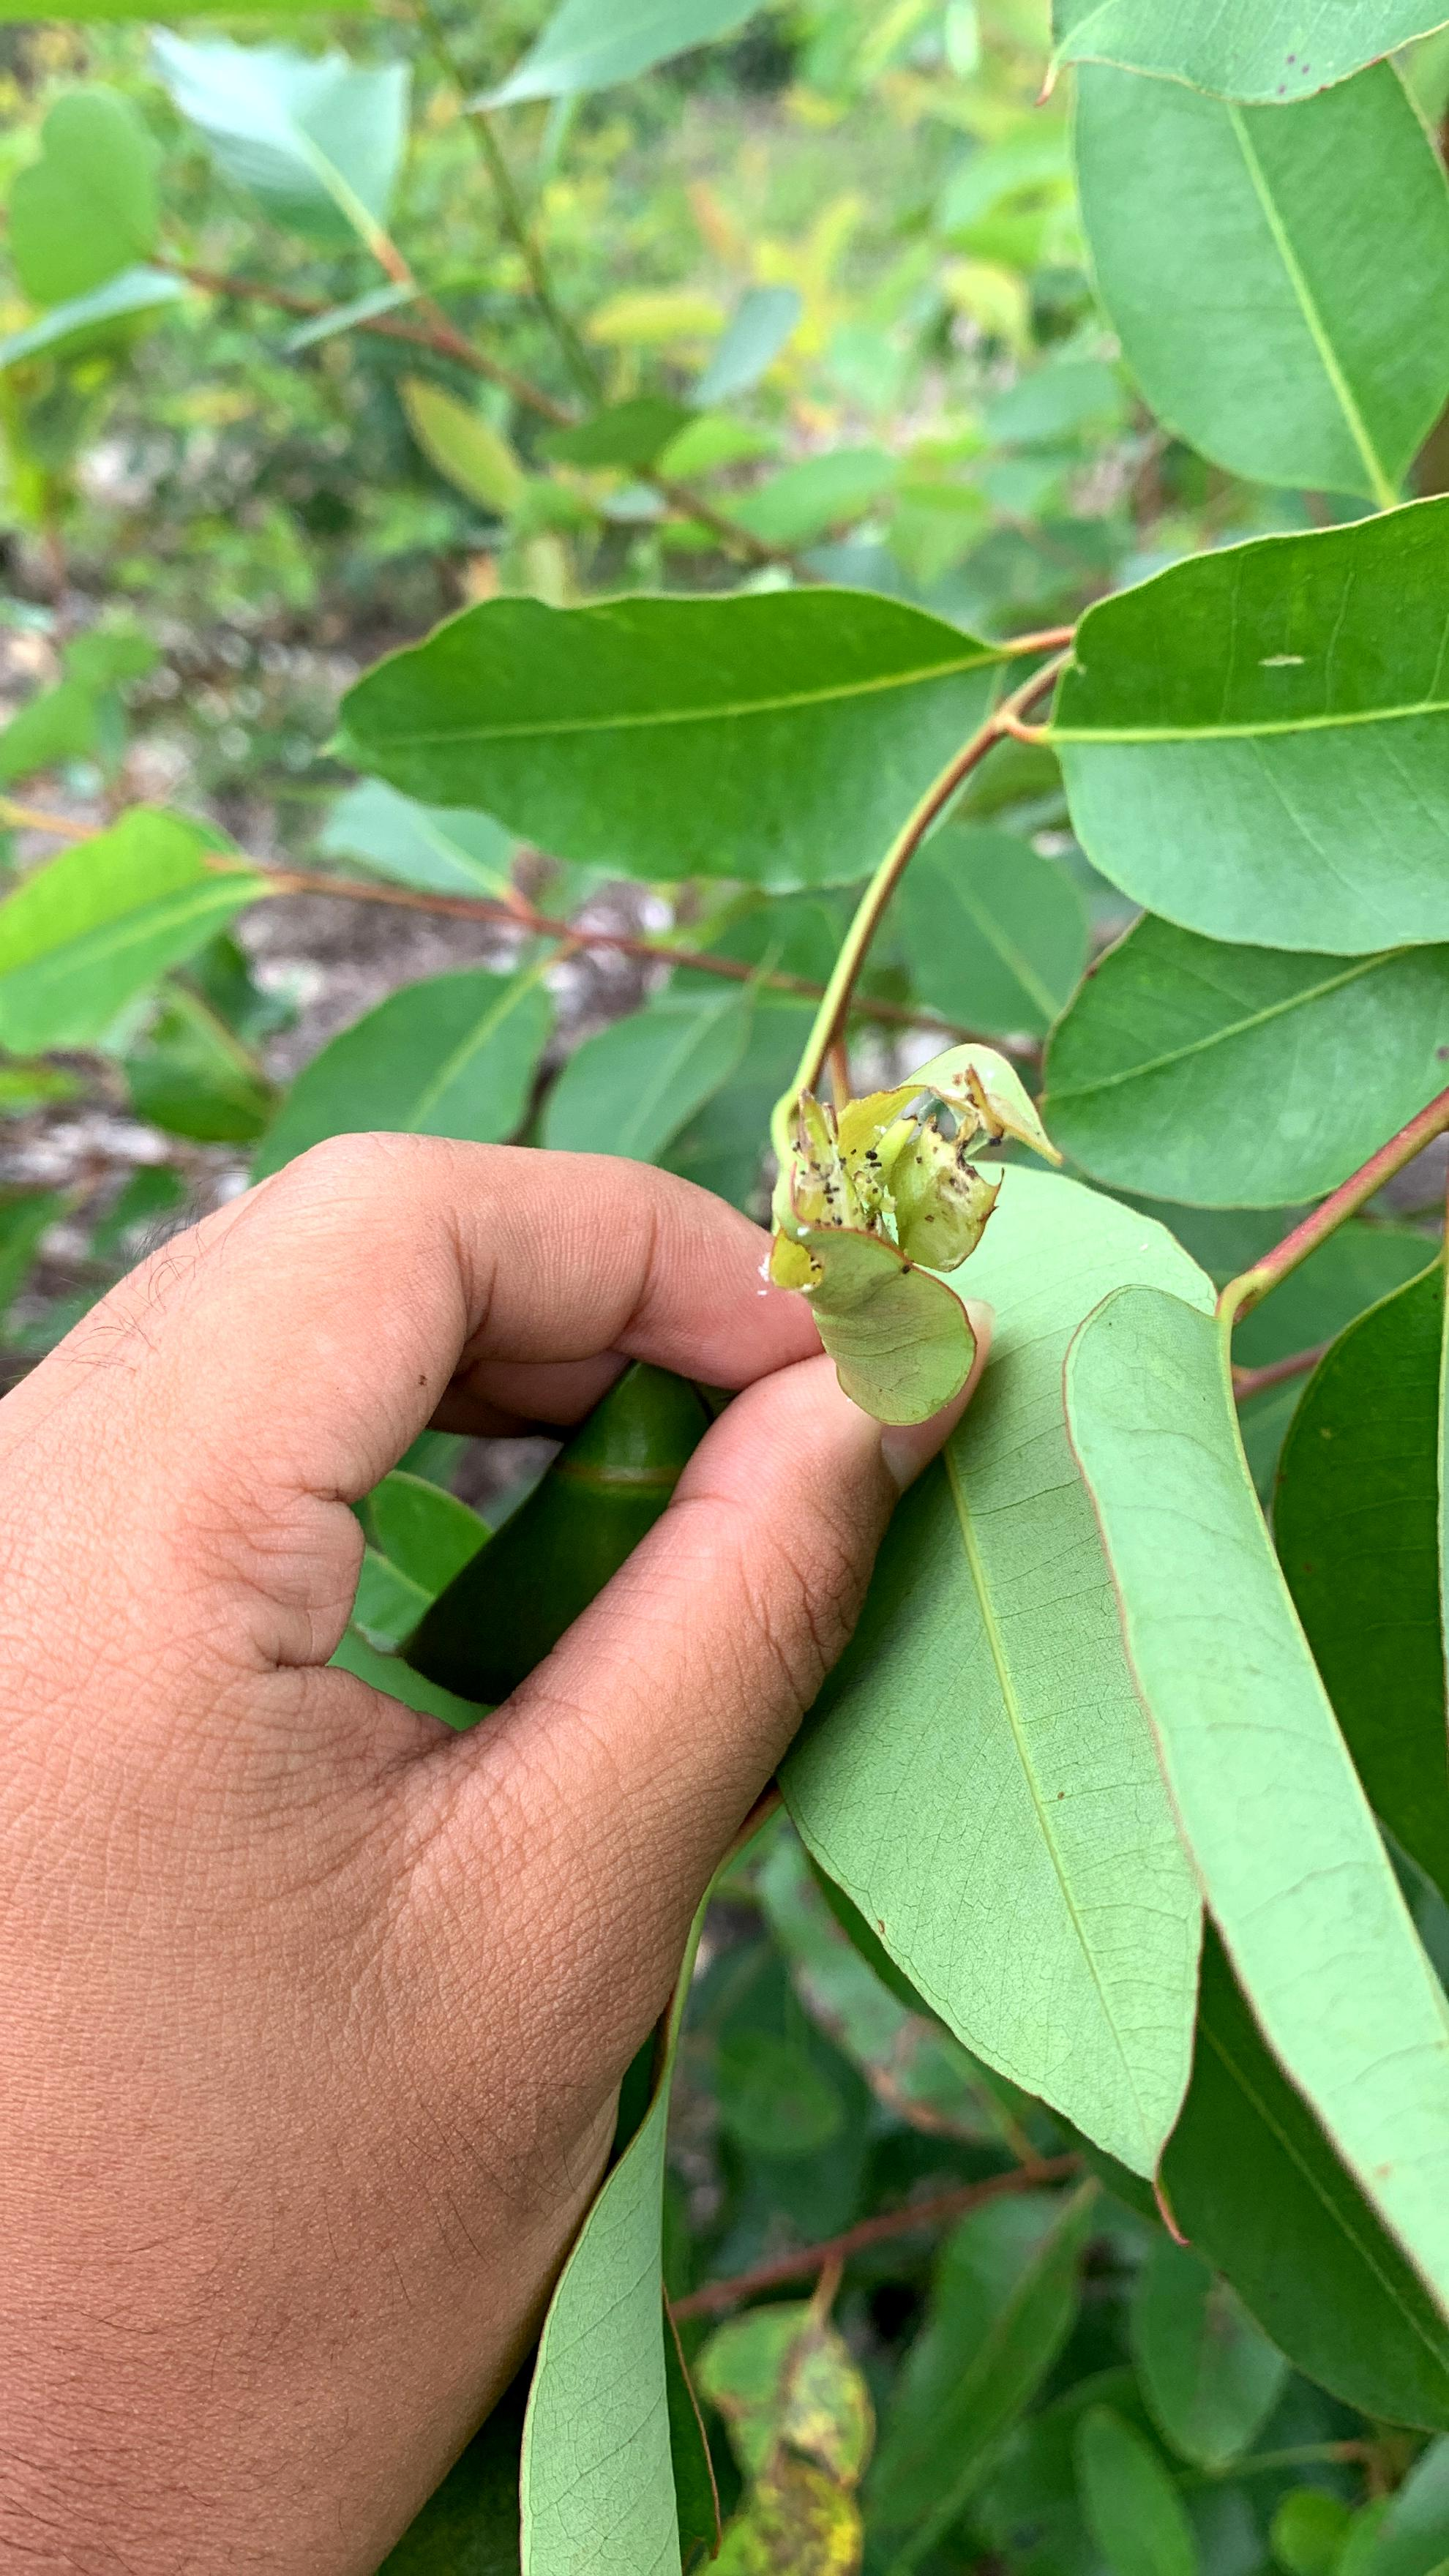Leaf Roller - Leaf: (726, 1011, 1062, 1453)
